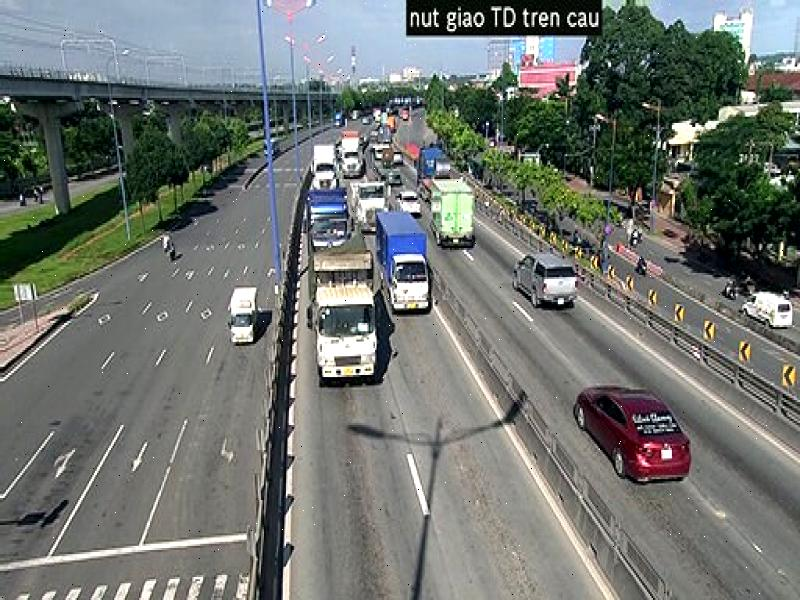truck: (305, 228, 384, 388)
